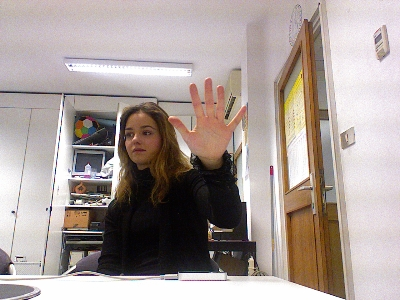布: (166, 75, 247, 162)
